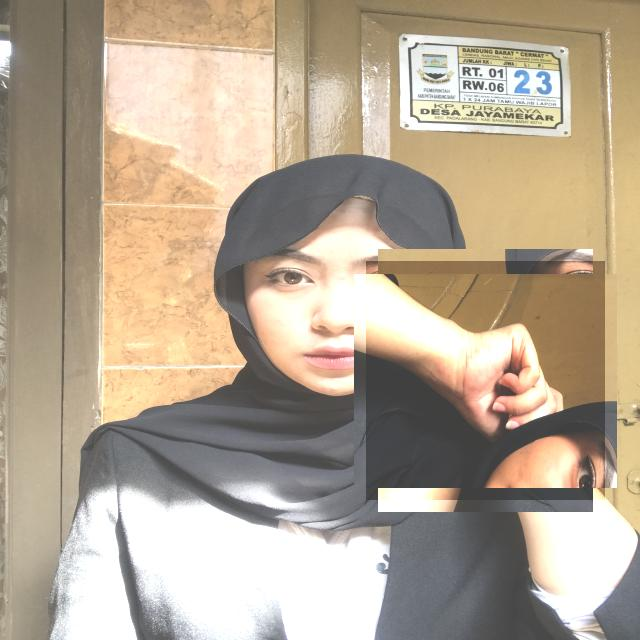ibu: (366, 261, 605, 500)
